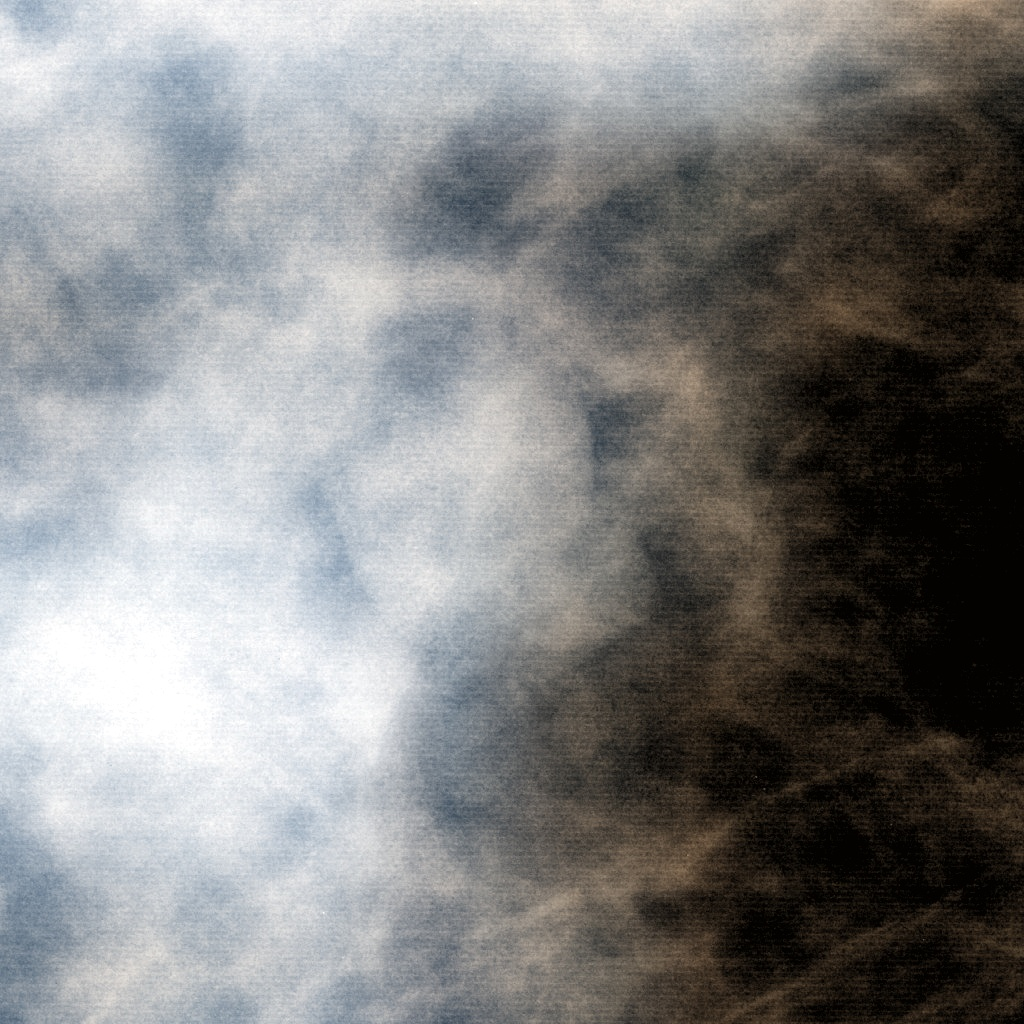tumor: (348, 336, 676, 688)
